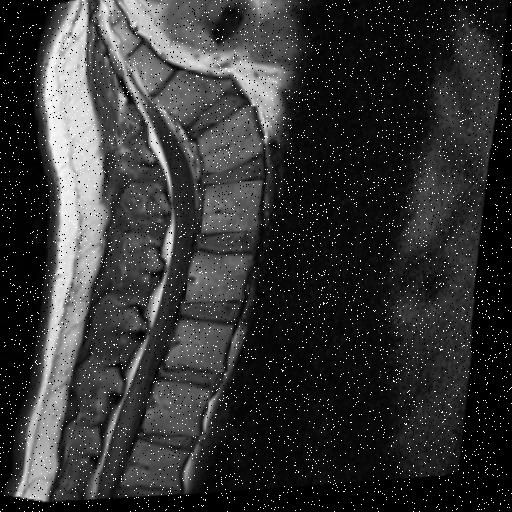L1: (152, 384, 218, 439)
L2: (172, 322, 240, 376)
L3: (191, 255, 257, 303)
L4: (205, 184, 266, 236)
L5: (201, 110, 266, 175)
S1: (157, 72, 233, 128)
